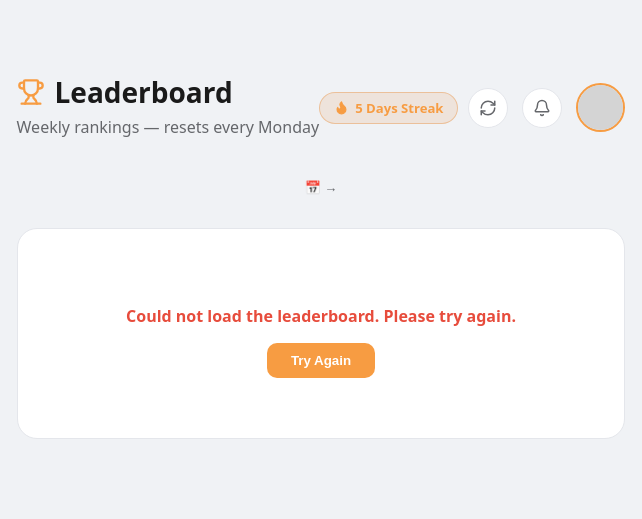
Leaderboard – Error State › Should clear error after successful retry
The image size is (642, 519).
Click the button "Try Again". click: point(321, 360)
box: [267,343,375,378]
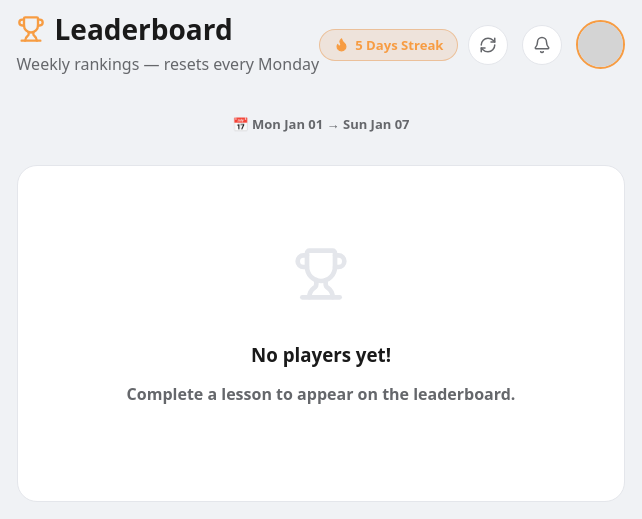
Expected: the text "Could not load the leaderboard" is gone
